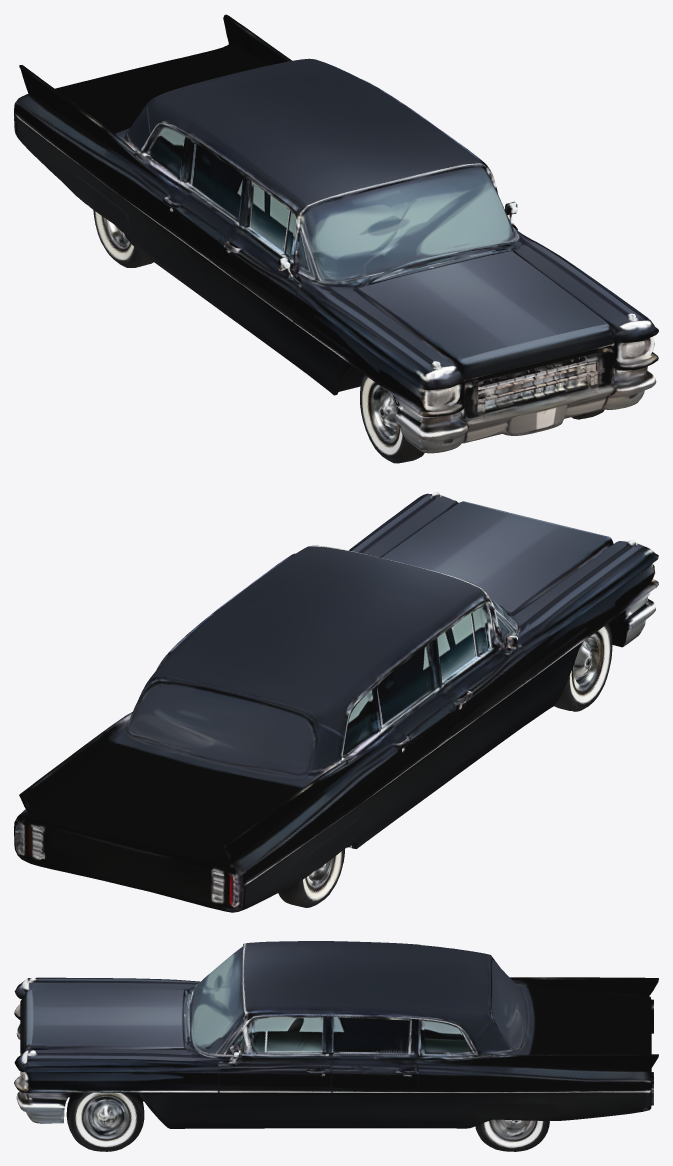
The model's file is sedan_vintage_01.glb.
3 views of the same model, one above another, from view 1: azimuth 30°, elevation 25°; view 2: azimuth 150°, elevation 25°; view 3: azimuth 270°, elevation 25° (orthographic). The views are drawn at different scales.
Visible parts, largest first — view 1: model; view 2: model; view 3: model.
Boxes of the visible parts, x1=… form: model: x1=14, y1=14, x2=658, y2=463; model: x1=14, y1=492, x2=658, y2=912; model: x1=14, y1=941, x2=658, y2=1151.
Bounding box in the file's own units: 0.5863 × 0.4463 × 1.78.
1 material, 1 textured.
